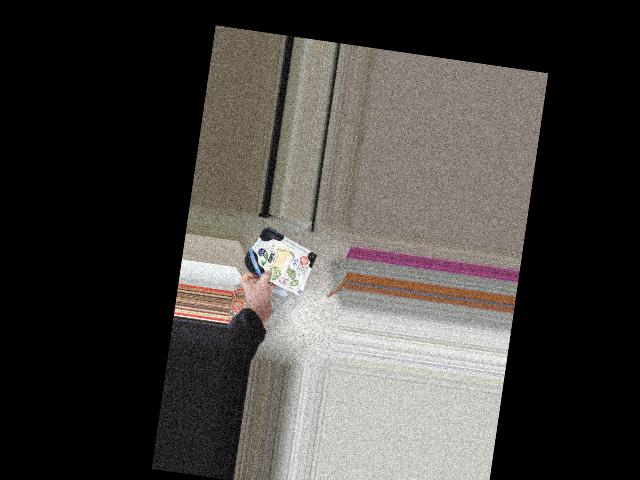cheese: (244, 234, 317, 290)
